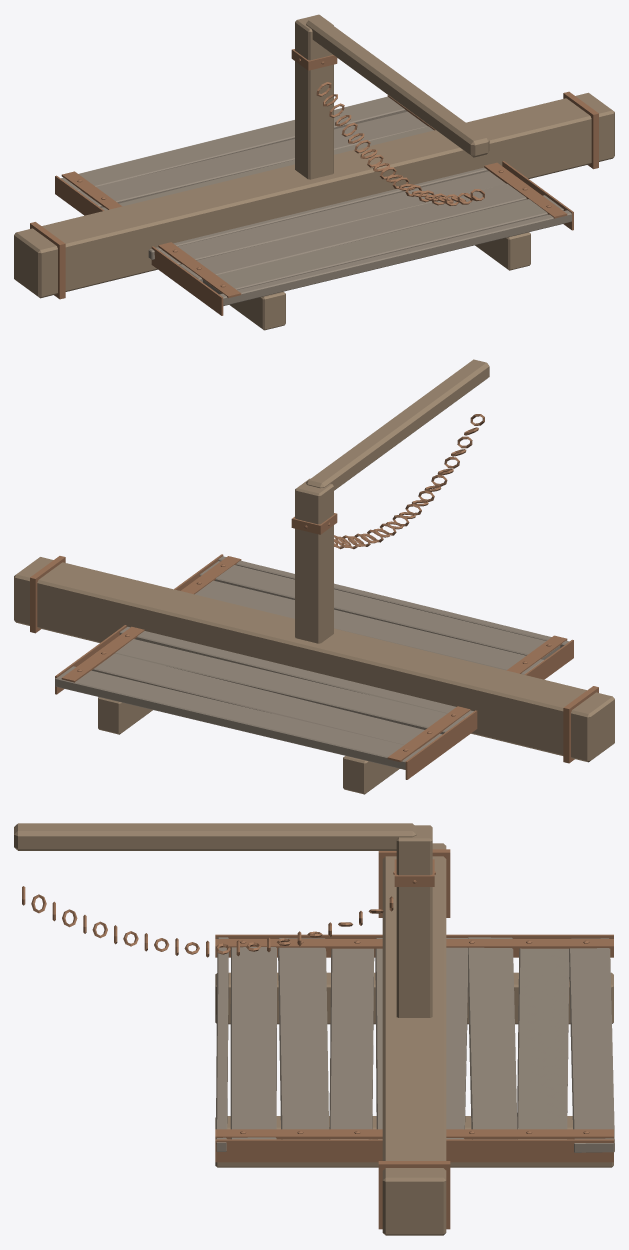
File: mine_lift_kit.glb
The picture shows the model from 3 angles, top to bottom: view 1: azimuth 30°, elevation 25°; view 2: azimuth 150°, elevation 25°; view 3: azimuth 270°, elevation 25°; orthographic projection. The views are drawn at different scales.
Visible parts, largest first — view 1: Deck2m, Beam4m, Post, Rail2m, Chain2m; view 2: Deck2m, Beam4m, Post, Rail2m, Chain2m; view 3: Deck2m, Beam4m, Rail2m, Post, Chain2m.
Boxes of the visible parts, x1,y1,x2,y2 form: Deck2m: (55, 95, 573, 330); Beam4m: (14, 91, 614, 299); Post: (291, 14, 337, 179); Rail2m: (306, 17, 489, 157); Chain2m: (316, 82, 484, 205); Deck2m: (55, 554, 573, 794); Beam4m: (14, 556, 614, 763); Post: (291, 478, 337, 643); Rail2m: (306, 359, 489, 490); Chain2m: (334, 414, 484, 549); Deck2m: (215, 934, 614, 1167); Beam4m: (378, 843, 450, 1235); Rail2m: (14, 823, 416, 850); Post: (393, 825, 435, 1017); Chain2m: (22, 886, 393, 957).
Bounding box in the file's own units: 4 × 1.45 × 3.02.
